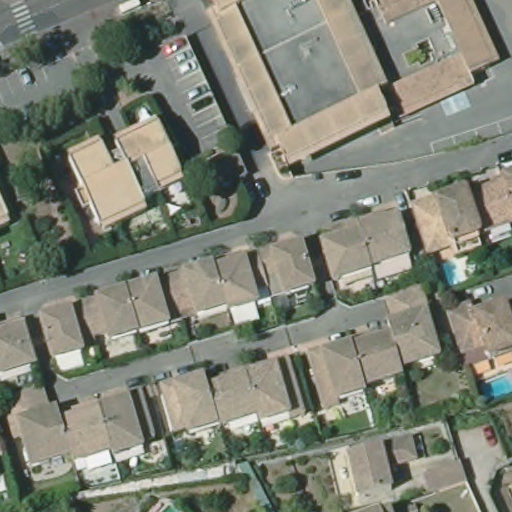pool: (476, 373, 512, 400), (441, 257, 468, 291)
